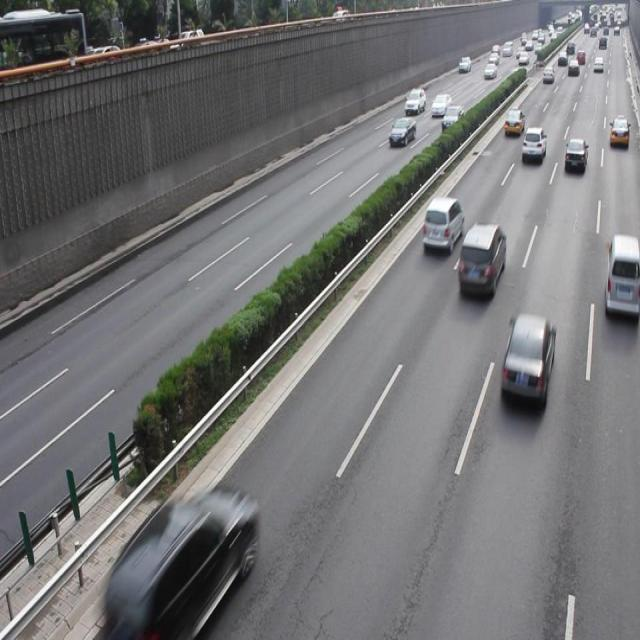car: (106, 488, 255, 640), (498, 313, 554, 405), (456, 222, 505, 298), (421, 194, 462, 254), (563, 136, 586, 173)
truck: (602, 233, 640, 317)
